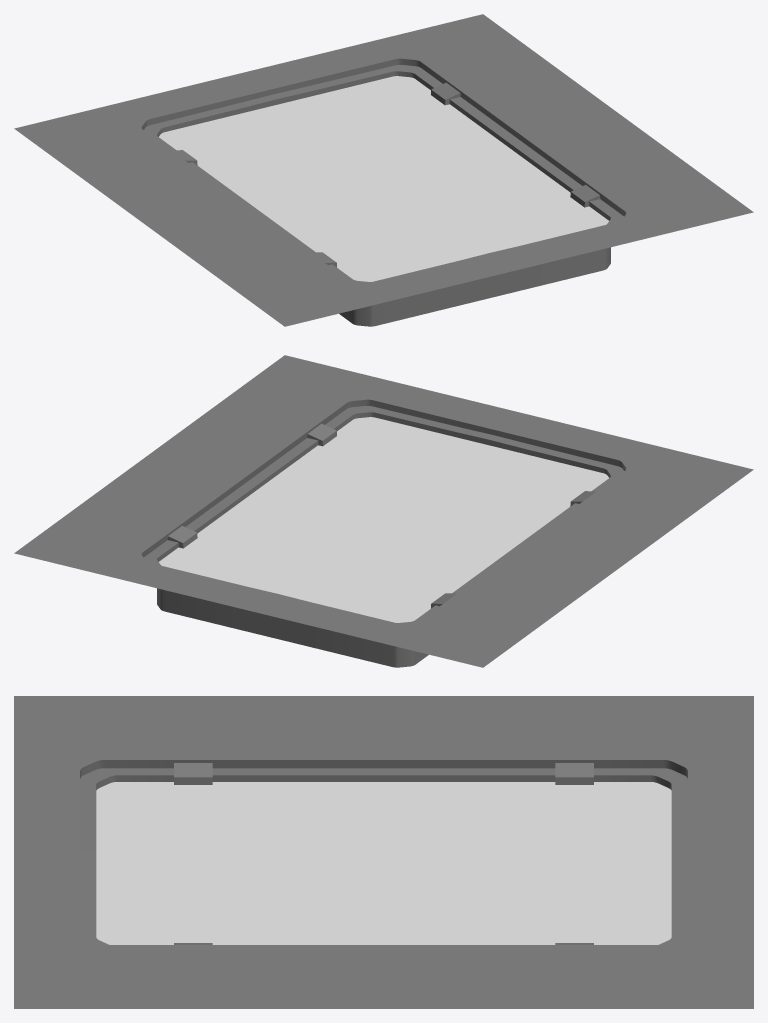
The model's file is q-scifi-mod-platform-window-wide.glb.
3 renders of one model, top to bottom at view 1: azimuth 30°, elevation 25°; view 2: azimuth 150°, elevation 25°; view 3: azimuth 270°, elevation 25°, orthographic. The views are drawn at different scales.
Visible parts, largest first — view 1: Platform_Window_Wide; view 2: Platform_Window_Wide; view 3: Platform_Window_Wide.
Part boxes in pixels (<box>): Platform_Window_Wide: <box>14,14,753,326</box>; Platform_Window_Wide: <box>14,355,753,667</box>; Platform_Window_Wide: <box>14,696,753,1008</box>.
Bounding box in the file's own units: 4 × 0.4133 × 4.
Materials: 4 (3 with a texture image).
